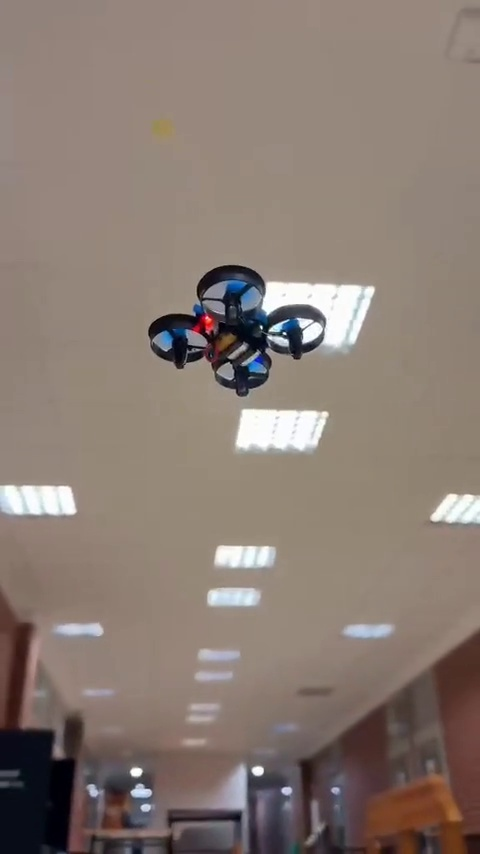drone: (152, 264, 325, 405)
